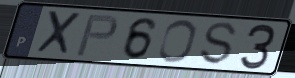3: (237, 22, 278, 72)
6: (120, 16, 159, 61)
O: (156, 18, 199, 65)
P: (73, 13, 121, 58)
S: (198, 20, 239, 67)
X: (33, 9, 85, 58)
